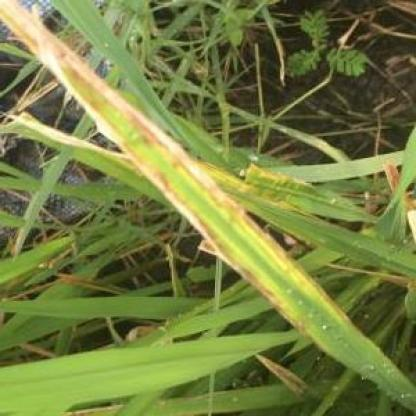Blight: (1, 1, 324, 319)
